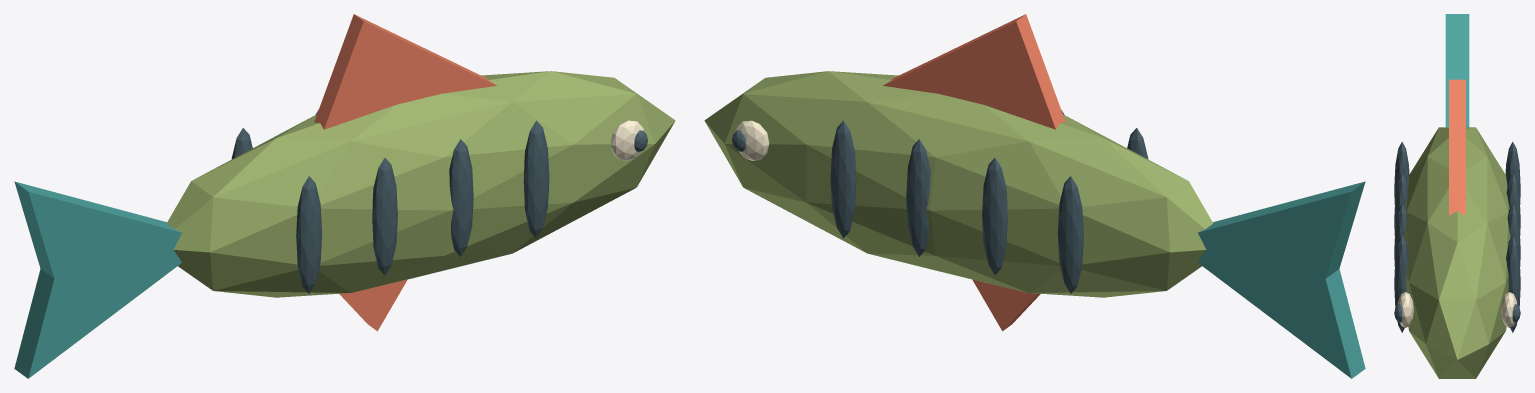
The model's file is fish_perch.glb.
The picture shows the model from 3 angles, left to right: view 1: azimuth 30°, elevation 25°; view 2: azimuth 150°, elevation 25°; view 3: azimuth 270°, elevation 25°; orthographic projection. The views are drawn at different scales.
Parts seen in each view (by area): view 1: reed, teal, coral, iron, cream; view 2: reed, teal, coral, iron, cream; view 3: reed, iron, coral, teal, cream.
Part boxes in pixels (bbox=[...]): reed: bbox=[166, 71, 675, 297]; teal: bbox=[14, 181, 181, 378]; coral: bbox=[314, 14, 496, 331]; iron: bbox=[231, 109, 647, 293]; cream: bbox=[610, 120, 644, 160]; reed: bbox=[704, 71, 1213, 297]; teal: bbox=[1198, 181, 1365, 378]; coral: bbox=[883, 14, 1065, 331]; iron: bbox=[732, 109, 1148, 293]; cream: bbox=[735, 120, 769, 160]; reed: bbox=[1404, 127, 1510, 378]; iron: bbox=[1394, 141, 1520, 332]; coral: bbox=[1449, 79, 1465, 215]; teal: bbox=[1445, 14, 1469, 127]; cream: bbox=[1397, 292, 1517, 327].
Bounding box in the file's own units: 0.95 × 0.435 × 0.19.
